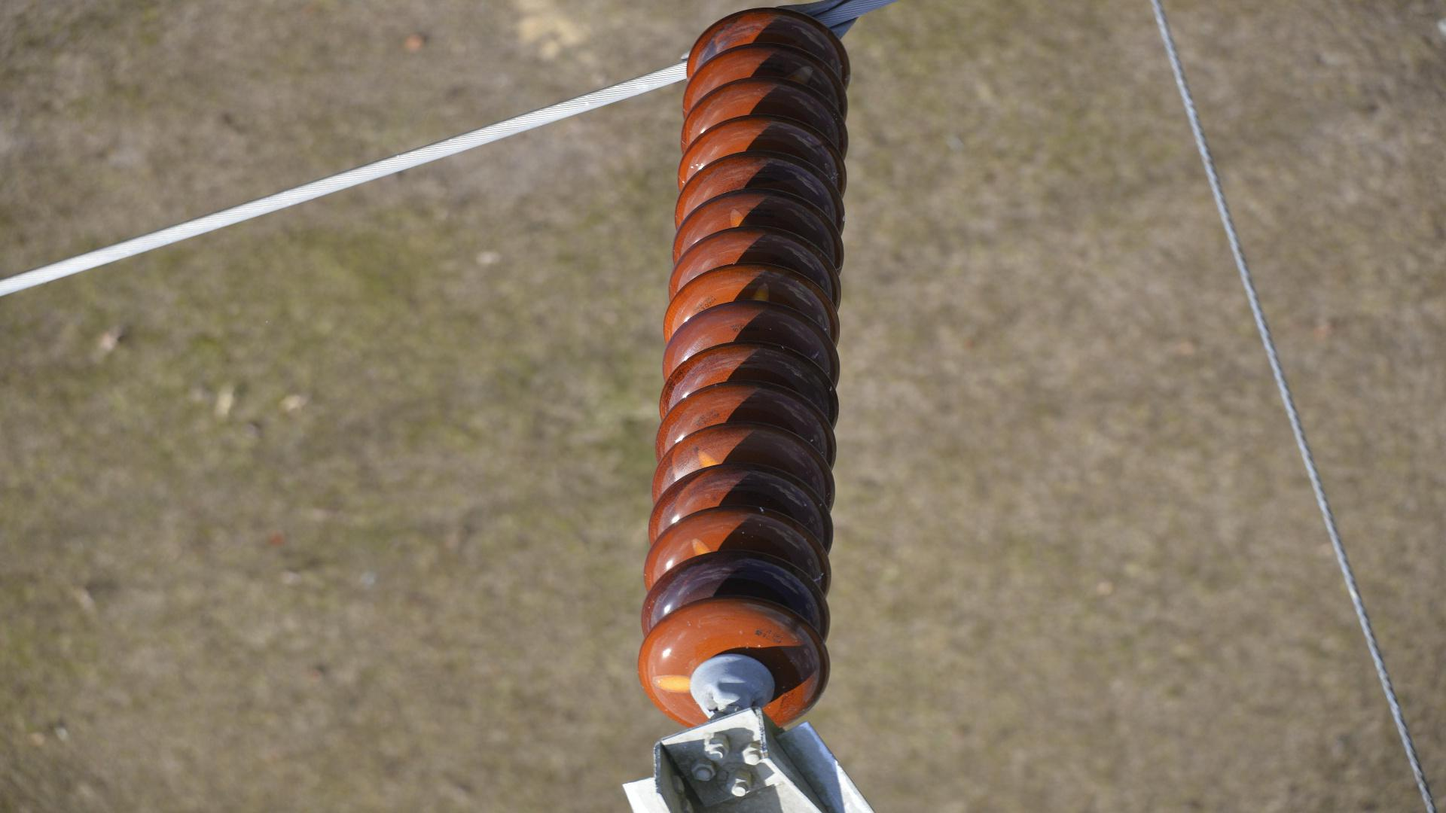insulator: (631, 8, 861, 735)
insulator_flashover: (648, 671, 694, 699)
